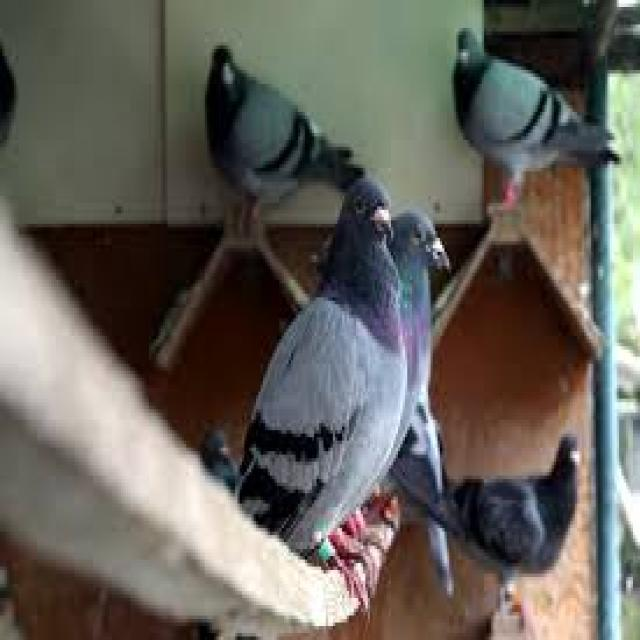pigeon: (237, 168, 410, 587)
